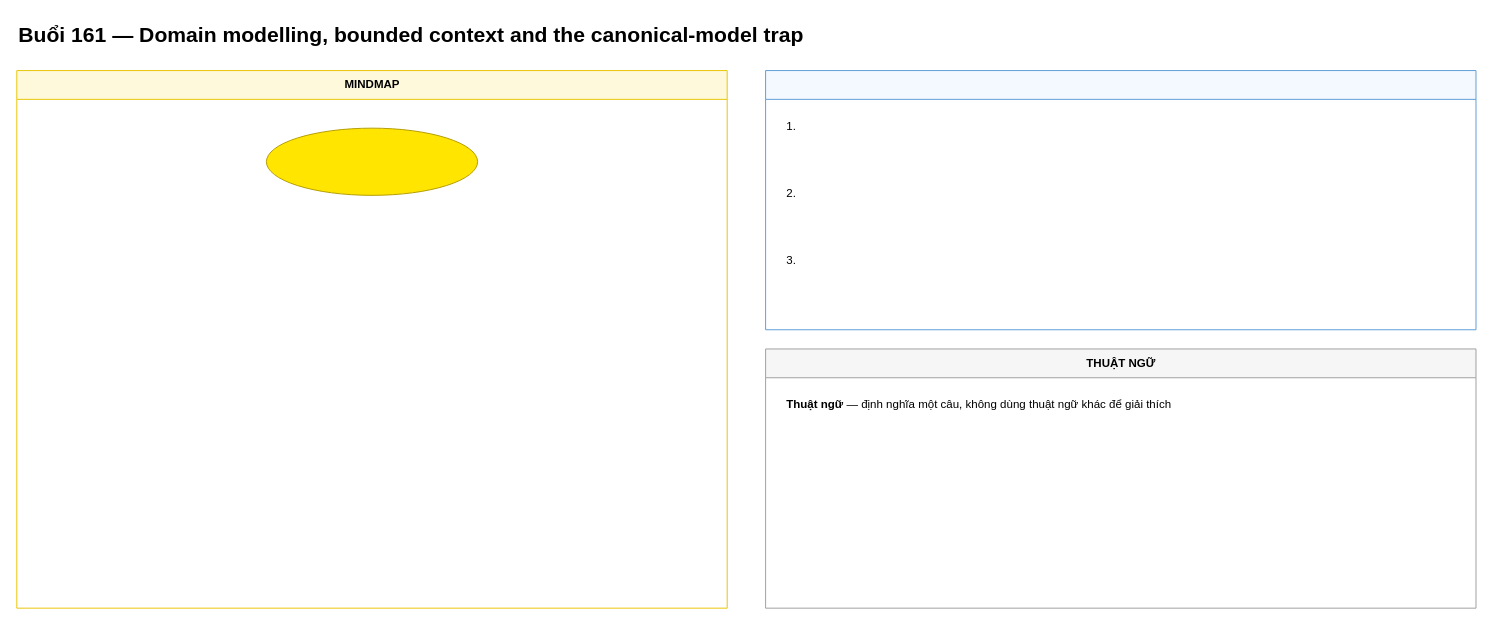
The diagram is 1493 pixels wide and 625 high, and some of its shapes have lost their labels. Here are the shapes that lost their labels. From the top down, the box of each, then its label:
(265, 127, 478, 195): Domain modelling, bounded context and the canonical-model trap
(765, 70, 1476, 330): KEY TAKEAWAY — ba điều phải nhớ
